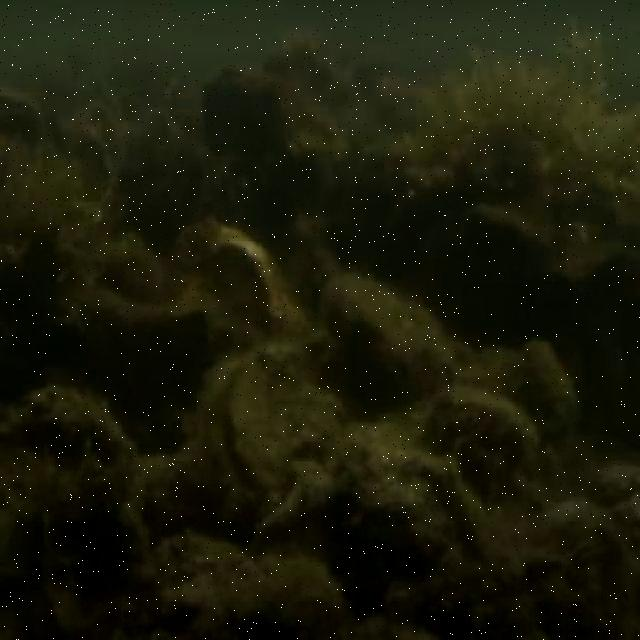Oyster-Closed: (324, 423, 479, 560), (135, 533, 333, 630), (510, 500, 640, 640), (62, 290, 213, 406), (321, 269, 454, 400), (173, 217, 298, 330), (0, 385, 138, 483), (100, 120, 214, 236), (124, 449, 256, 548), (420, 387, 538, 470), (256, 465, 350, 552), (461, 195, 557, 276), (554, 250, 640, 305), (569, 447, 640, 511), (0, 630, 5, 640)
Oyster-Open: (201, 357, 340, 500)
